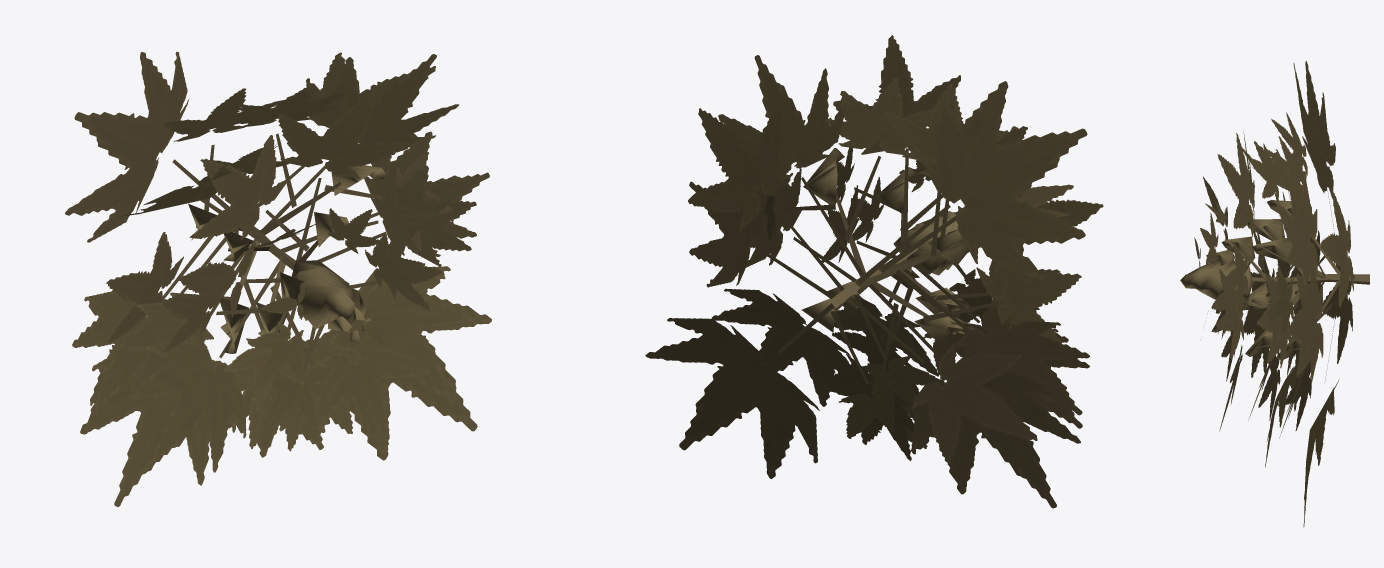
Rendered from p_hybrid_flowering_c4_cards.obj.
3 views of the same model, side by side, from view 1: azimuth 30°, elevation 25°; view 2: azimuth 150°, elevation 25°; view 3: azimuth 270°, elevation 25° (orthographic). The views are drawn at different scales.
Size of the model in its own units: 1.28 by 1.25 by 0.5.
1 material, 1 textured.
